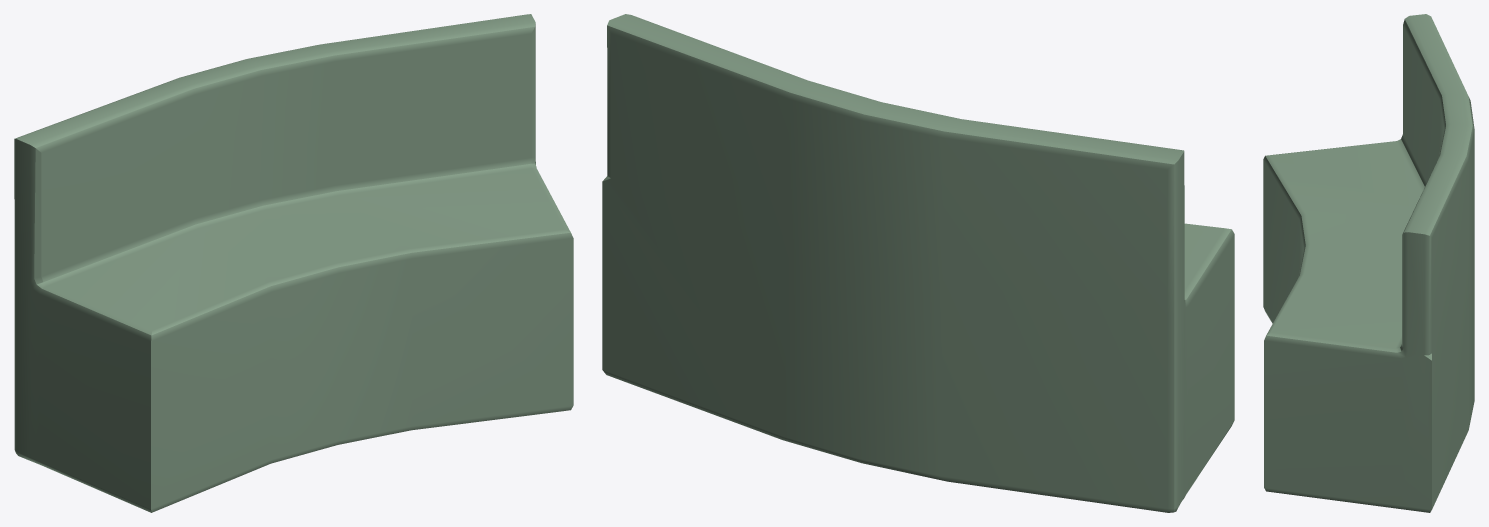
Rendered from koltuk_01.fbx.
3 renders of one model, left to right at view 1: azimuth 30°, elevation 25°; view 2: azimuth 150°, elevation 25°; view 3: azimuth 270°, elevation 25°, orthographic. The views are drawn at different scales.
Parts seen in each view (by area): view 1: koltuk; view 2: koltuk; view 3: koltuk.
Part boxes in pixels (bbox=[...]): koltuk: bbox=[14, 14, 573, 512]; koltuk: bbox=[602, 14, 1234, 512]; koltuk: bbox=[1263, 14, 1474, 512].
Size of the model in its own units: 15.53 by 9.18 by 6.27.
